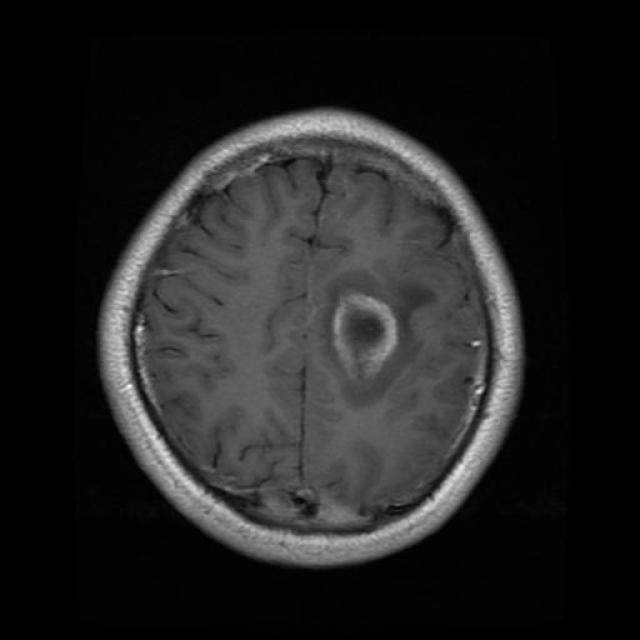brain_tumor: (332, 292, 398, 379)
